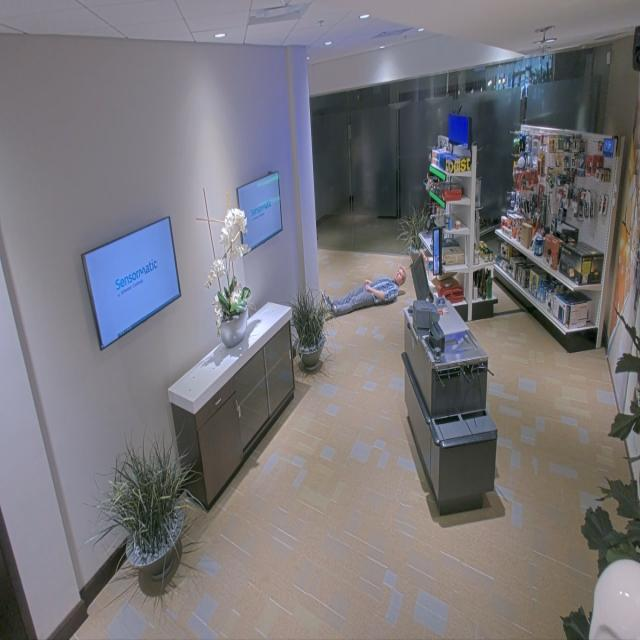fall: (316, 251, 412, 326)
